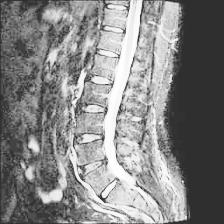disc: (76, 154, 108, 176), (80, 100, 110, 117), (102, 22, 129, 38), (91, 73, 116, 90), (97, 46, 123, 62), (105, 1, 132, 14)
hdisc: (72, 130, 107, 149)
